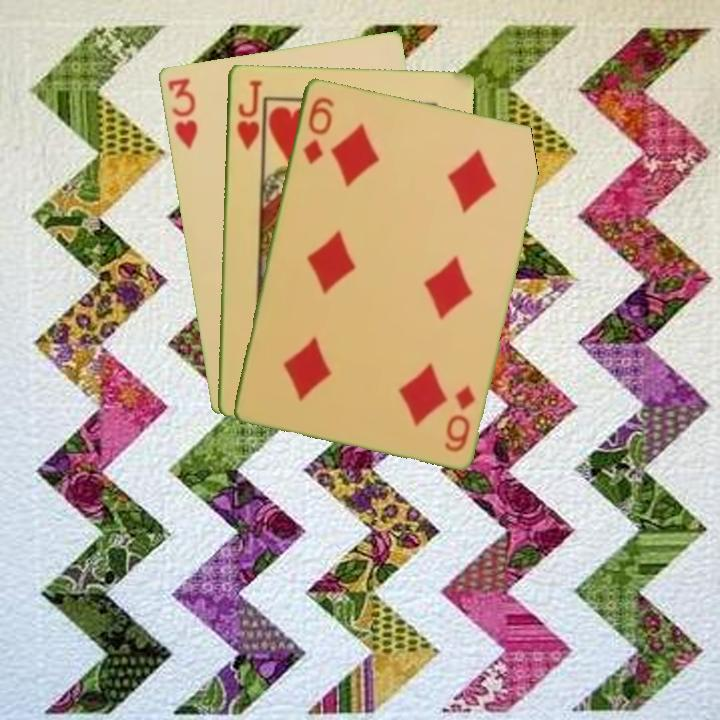3h: (164, 74, 200, 152)
6d: (298, 93, 337, 167), (440, 381, 478, 455)
Jh: (233, 76, 264, 152)
